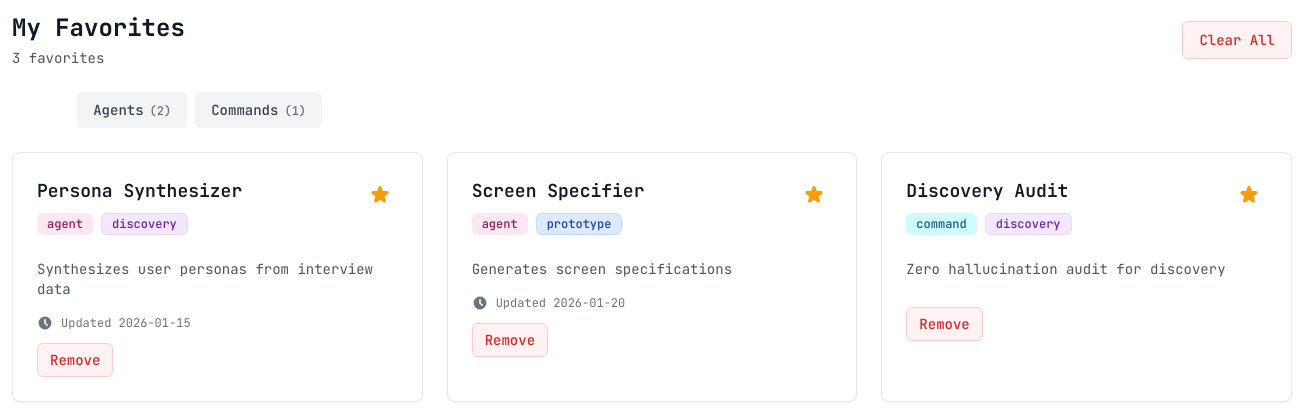
FavoritesPanel › Type Filtering › filters by agent type
The width and height of the screenshot is (1304, 419).
What coordinates should you click on to do the following:
click the button "Agents(2)"
I would click on:
 (132, 110)
Its box is [77, 92, 187, 128].
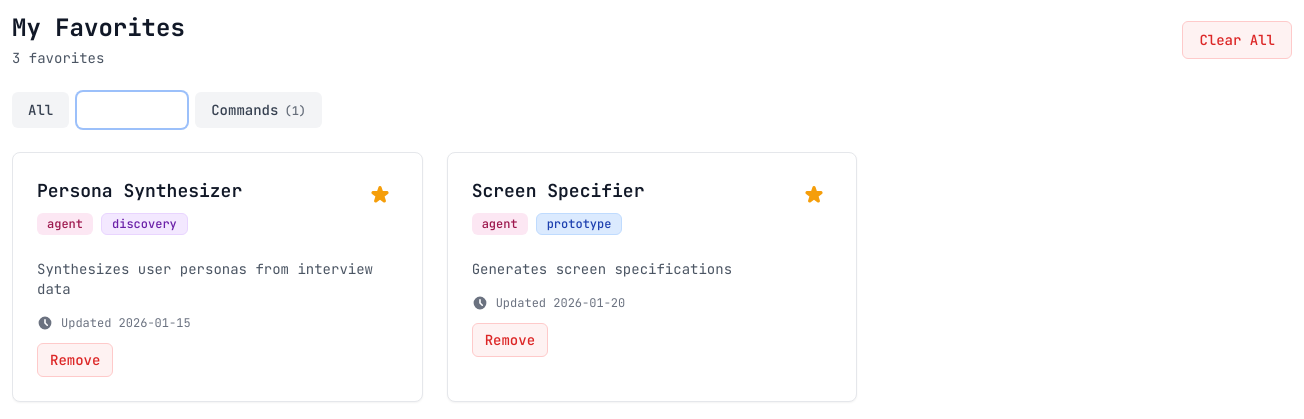
Expected: the heading "Persona Synthesizer" is shown, [37, 179, 242, 202]
Result: the heading "Discovery Audit" is gone
